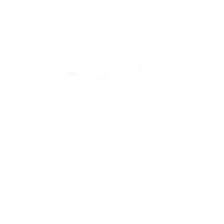plastic_box: (20, 31, 205, 210)
